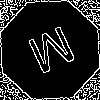M: (25, 25, 83, 84)
